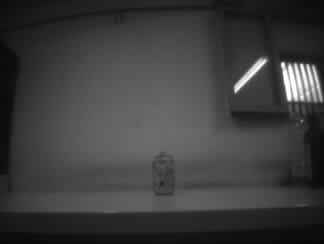Tin can: (151, 149, 176, 196)
